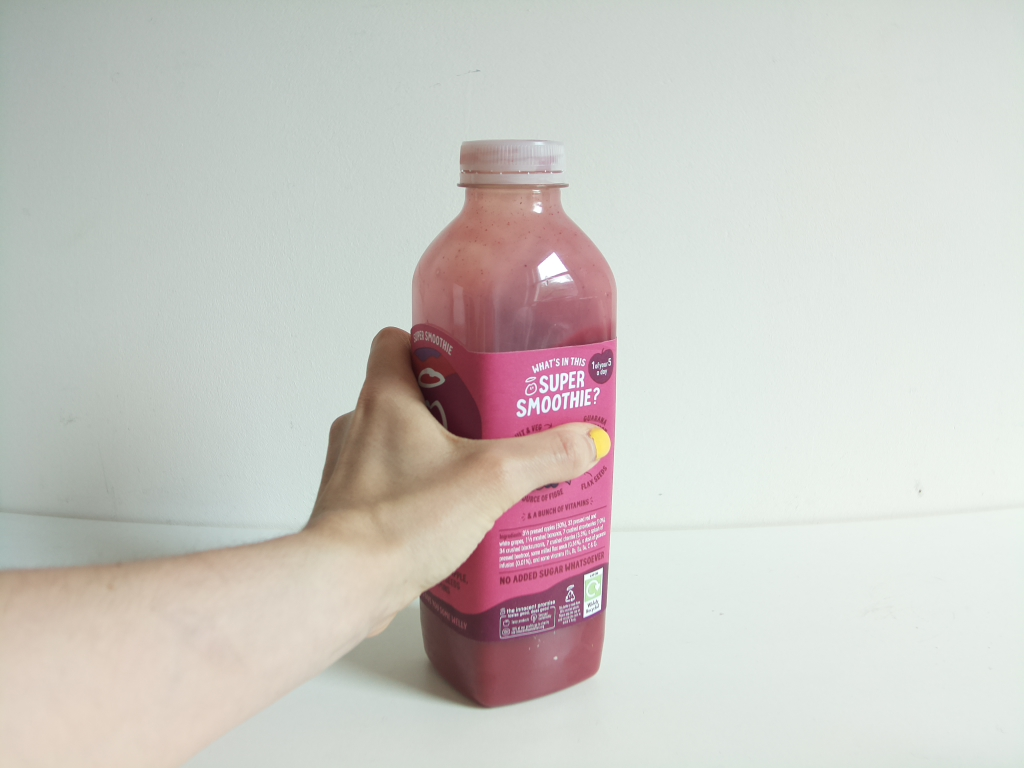juice: (410, 131, 608, 712)
